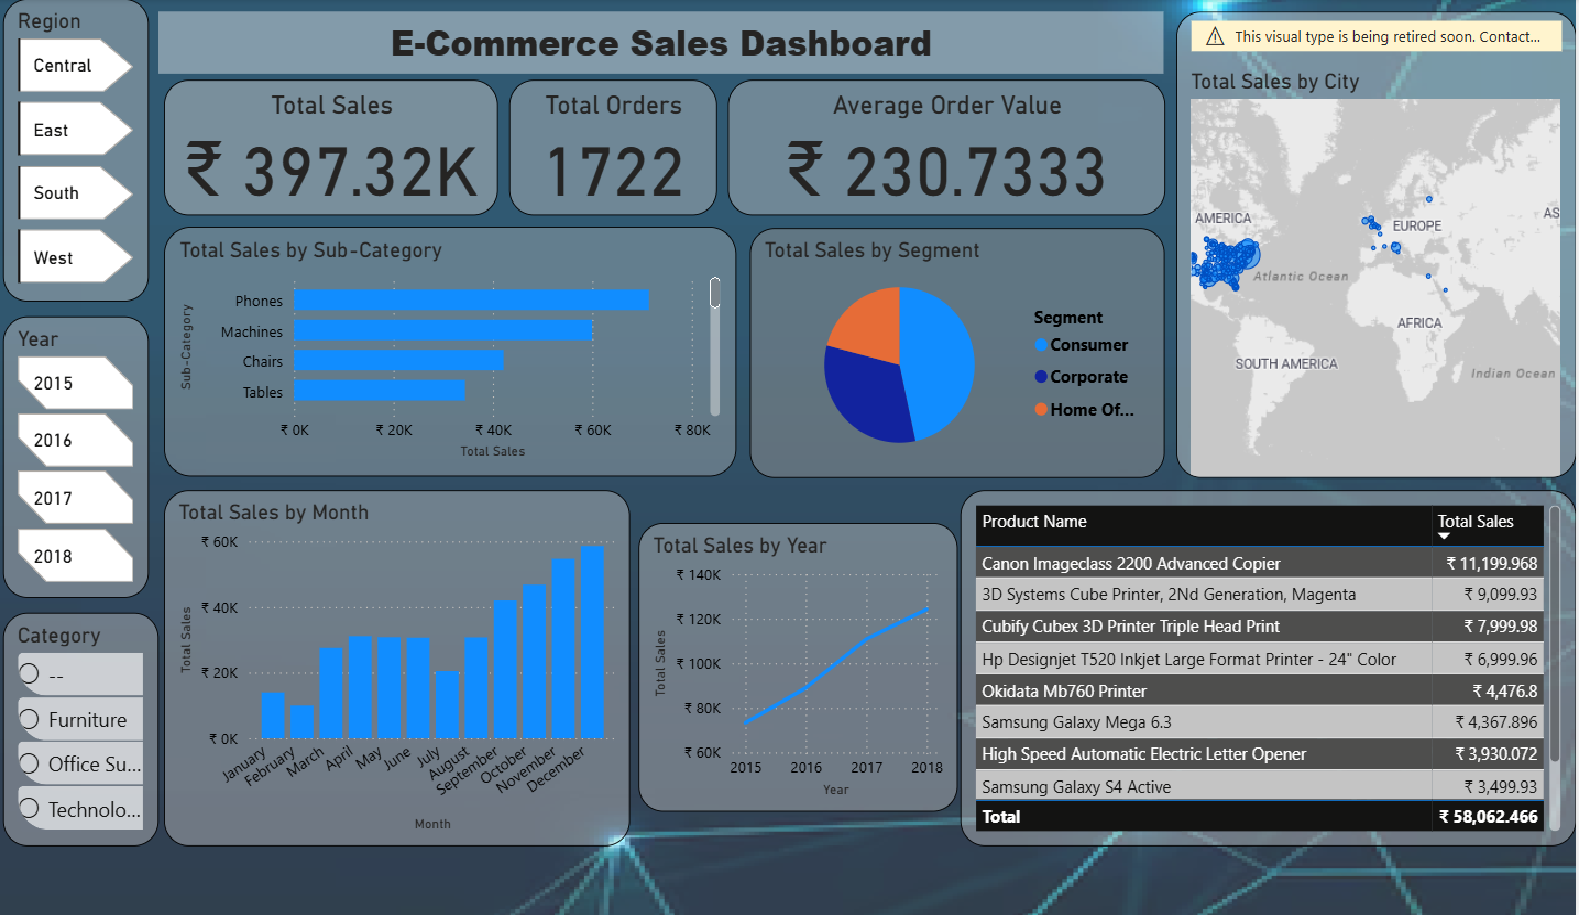

The dashboard page shown, as its layout file describes it:
{"tool":"powerbi","page":{"name":"Page 1","canvas":[1280,720],"ordinal":0},"visuals":[{"type":"card","title":"Total Sales","fields":{"Values":["Customers.Total Sales"]},"box":[134.5,63.3,271.4,106.3],"z":0},{"type":"card","title":"Total Orders","fields":{"Values":["Customers.Total Orders"]},"box":[413.8,63.3,168.5,106.3],"z":1000},{"type":"card","title":"Average Order Value","fields":{"Values":["Customers.Average Order Value"]},"box":[591.3,63.3,355,106.3],"z":2000},{"type":"lineChart","fields":{"Category":["Orders.Order Date.Variation.Date Hierarchy.Year","Orders.Order Date.Variation.Date Hierarchy.Month"],"Y":["Customers.Total Sales"]},"box":[519.2,410.9,259.1,226.7],"z":3000},{"type":"barChart","fields":{"Y":["Customers.Total Sales"],"Category":["Products.Sub-Category"]},"box":[134.5,178.6,464.7,195.6],"z":4000},{"type":"map","fields":{"Category":["Orders.City"],"Size":["Customers.Total Sales"]},"box":[955.4,10.2,324.5,365.2],"z":5000},{"type":"tableEx","fields":{"Values":["Products.Product Name","Customers.Total Sales","select"]},"box":[780.2,385.6,499.8,279.3],"z":6000},{"type":"pieChart","fields":{"Category":["Orders.Segment"],"Y":["Customers.Total Sales"]},"box":[609.4,179.8,336.9,195.6],"z":7000},{"type":"advancedSlicerVisual","fields":{"Values":["Customers.Region"]},"box":[3.4,0,118.7,237.4],"z":8000},{"type":"listSlicer","fields":{"Values":["Products.Category"]},"box":[3.3,481.3,126.2,183.1],"z":9000},{"type":"columnChart","fields":{"Category":["Orders.Order Date.Variation.Date Hierarchy.Month"],"Y":["Customers.Total Sales"]},"box":[134.5,385.6,378.8,279.3],"z":10000},{"type":"advancedSlicerVisual","fields":{"Values":["Orders.Order Date.Variation.Date Hierarchy.Year"]},"box":[3.4,248.7,118.7,220.5],"z":11000},{"type":"textbox","box":[130,10.2,816.3,48.6],"z":12000}]}

Visuals, with their boxes in screenshot pixels (x1, y1, x2, y2):
"Total Sales" card: {"x1": 161, "y1": 76, "x2": 504, "y2": 210}
"Total Orders" card: {"x1": 514, "y1": 76, "x2": 726, "y2": 210}
"Average Order Value" card: {"x1": 738, "y1": 76, "x2": 1185, "y2": 210}
lineChart - Orders.Order Date.Variation.Date Hierarchy.Year x Orders.Order Date.Variation.Date Hierarchy.Month: {"x1": 647, "y1": 514, "x2": 973, "y2": 800}
barChart - Customers.Total Sales x Products.Sub-Category: {"x1": 161, "y1": 221, "x2": 748, "y2": 468}
map - Orders.City x Customers.Total Sales: {"x1": 1197, "y1": 9, "x2": 1578, "y2": 469}
tableEx - Products.Product Name x Customers.Total Sales: {"x1": 976, "y1": 482, "x2": 1578, "y2": 834}
pieChart - Orders.Segment x Customers.Total Sales: {"x1": 760, "y1": 223, "x2": 1185, "y2": 469}
advancedSlicerVisual - Customers.Region: {"x1": 0, "y1": 0, "x2": 146, "y2": 295}
listSlicer - Products.Category: {"x1": 0, "y1": 603, "x2": 155, "y2": 834}
columnChart - Orders.Order Date.Variation.Date Hierarchy.Month x Customers.Total Sales: {"x1": 161, "y1": 482, "x2": 639, "y2": 834}
advancedSlicerVisual - Orders.Order Date.Variation.Date Hierarchy.Year: {"x1": 0, "y1": 310, "x2": 146, "y2": 588}
textbox: {"x1": 156, "y1": 9, "x2": 1185, "y2": 70}
